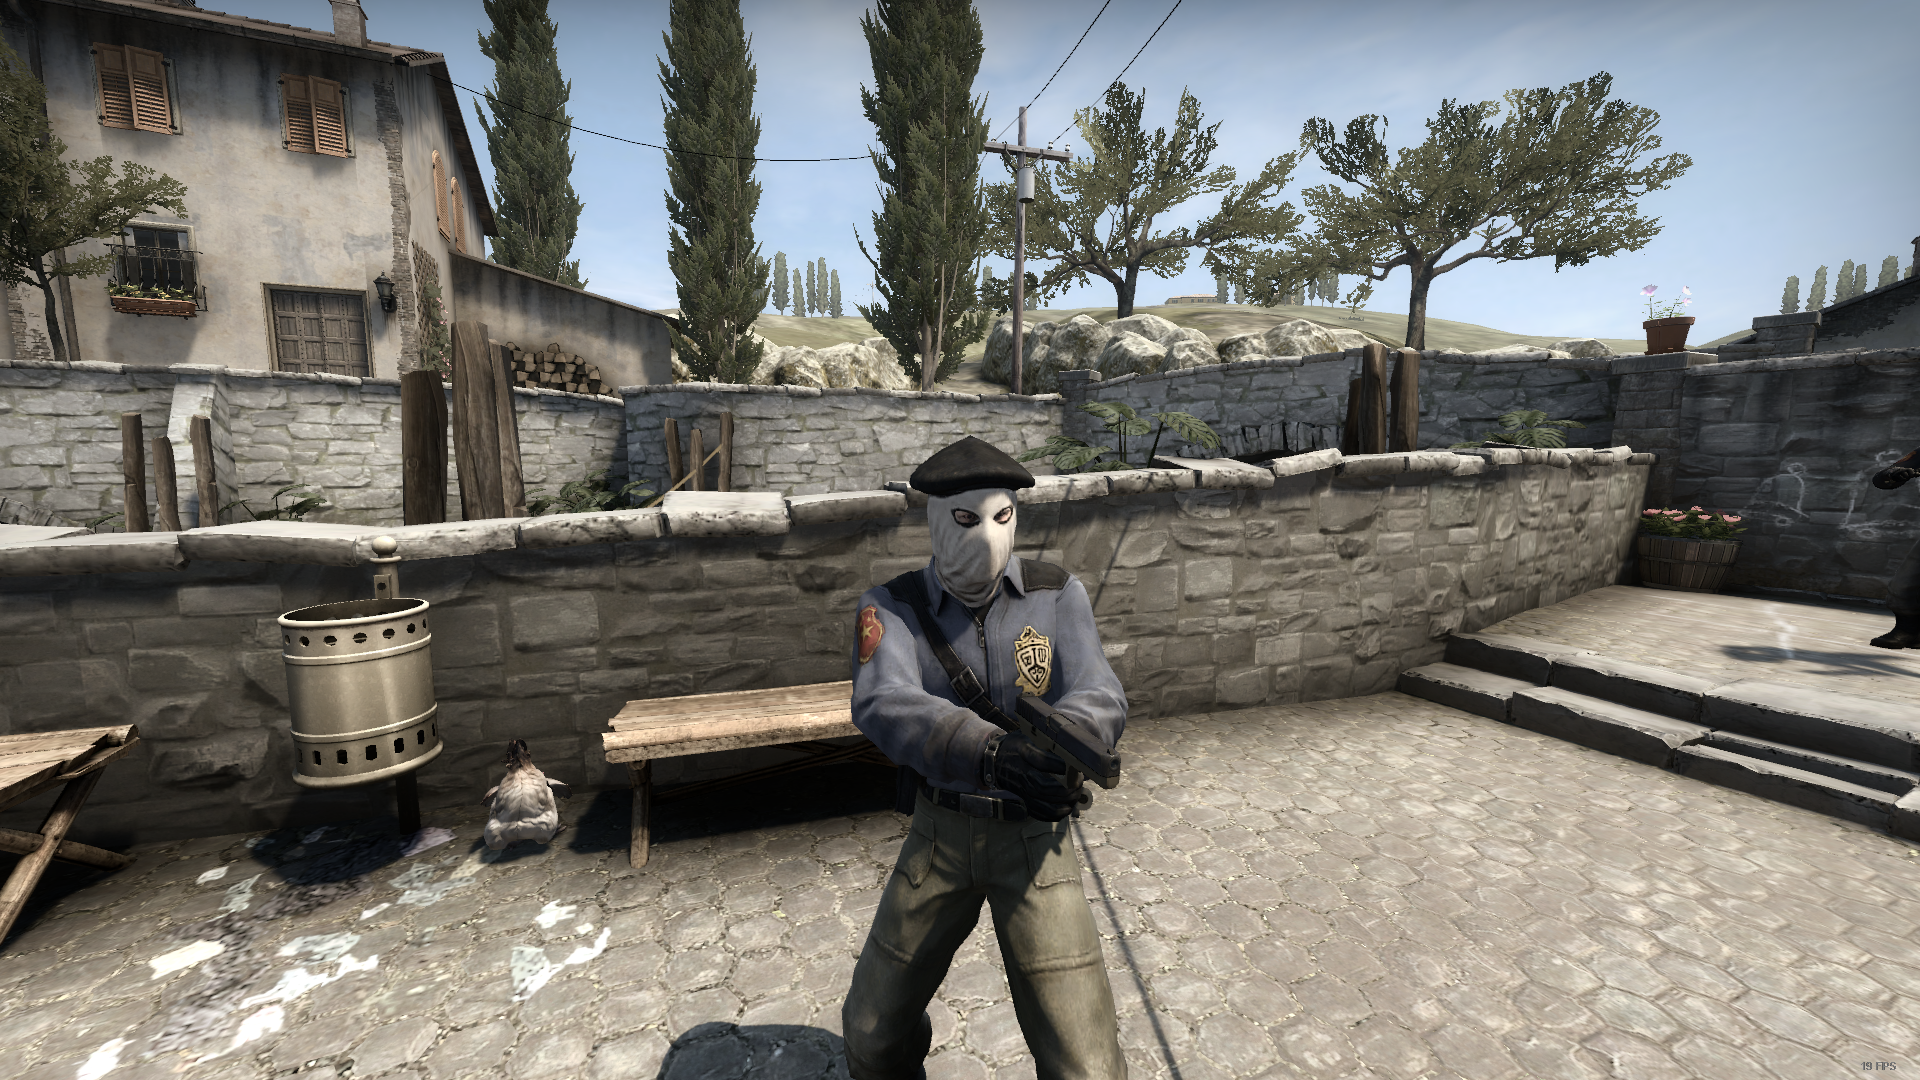t: (841, 436, 1127, 1080)
